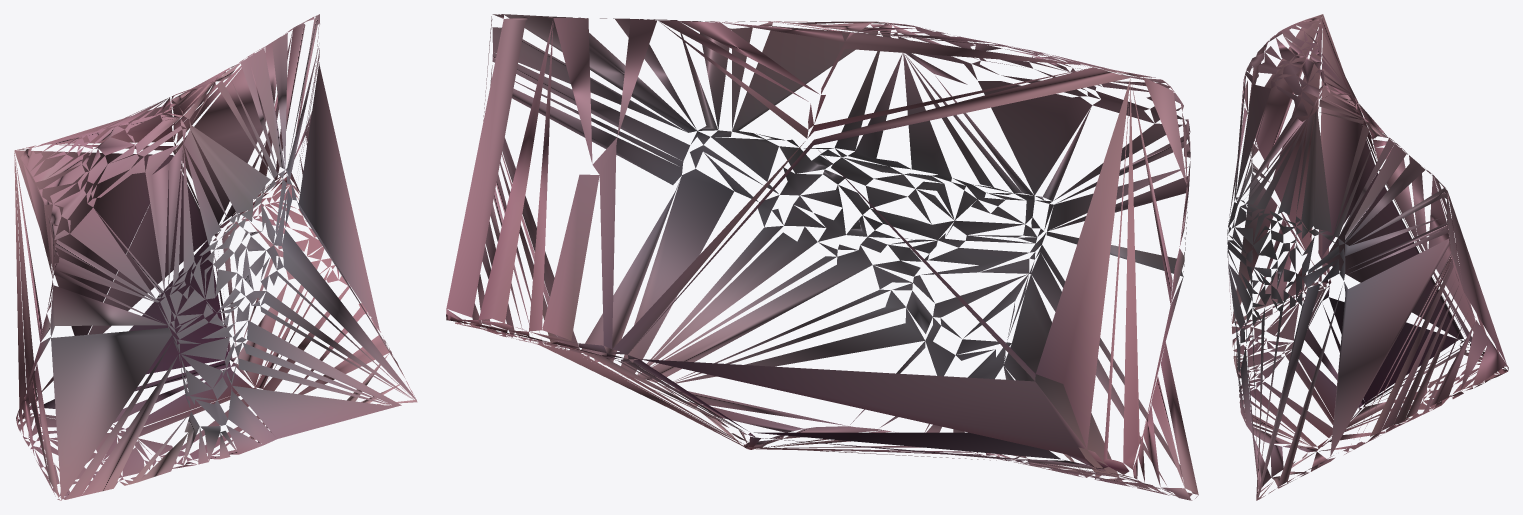
Rendered from alpha0-5.gltf.
The picture shows the model from 3 angles, left to right: view 1: azimuth 30°, elevation 25°; view 2: azimuth 150°, elevation 25°; view 3: azimuth 270°, elevation 25°; orthographic projection. The views are drawn at different scales.
Bounding box in the file's own units: 0.6776 × 0.5568 × 0.455.
